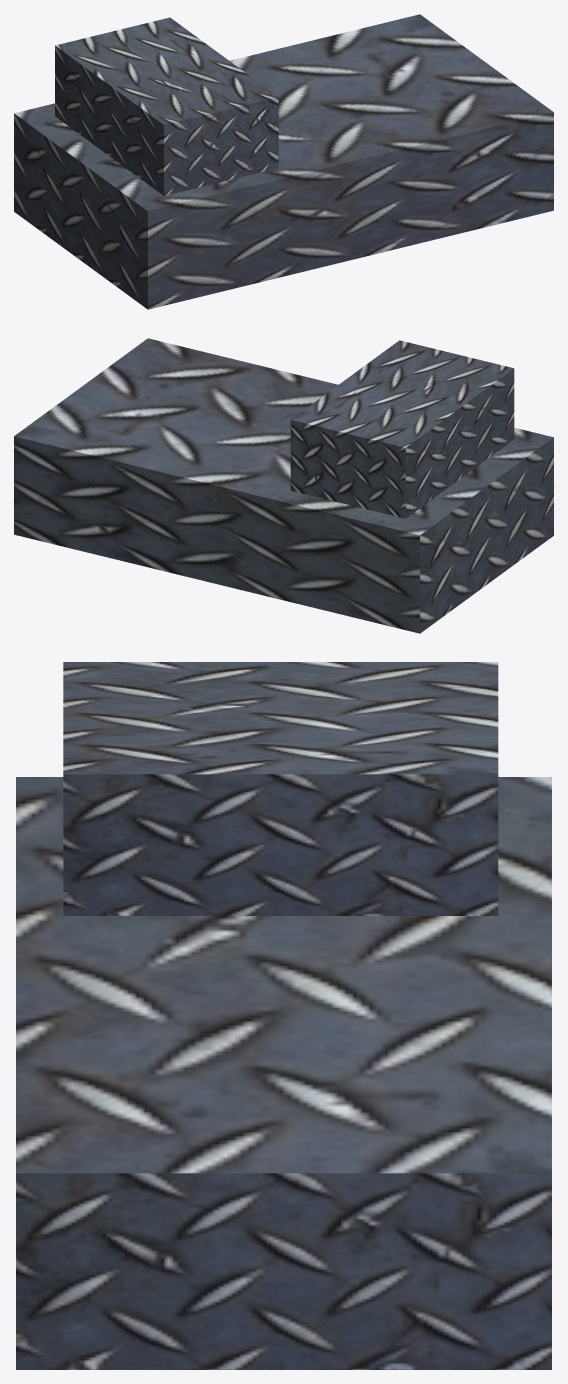
The model's file is TestBlock.obj.
3 renders of one model, top to bottom at view 1: azimuth 30°, elevation 25°; view 2: azimuth 150°, elevation 25°; view 3: azimuth 270°, elevation 25°, orthographic. The views are drawn at different scales.
Visible parts, largest first — view 1: group4 group3 group2 group1 pCube1, pCube2 group4 group3 group2 group1; view 2: group4 group3 group2 group1 pCube1, pCube2 group4 group3 group2 group1; view 3: group4 group3 group2 group1 pCube1, pCube2 group4 group3 group2 group1.
Part boxes in pixels (box(x1,y1,x2,y2)): group4 group3 group2 group1 pCube1: box(14, 14, 553, 309); pCube2 group4 group3 group2 group1: box(55, 17, 278, 195); group4 group3 group2 group1 pCube1: box(14, 338, 553, 633); pCube2 group4 group3 group2 group1: box(290, 340, 514, 518); group4 group3 group2 group1 pCube1: box(16, 777, 551, 1369); pCube2 group4 group3 group2 group1: box(63, 662, 498, 915).
Bounding box in the file's own units: 7 × 2.79 × 4.
Materials: 2 (2 with a texture image).
